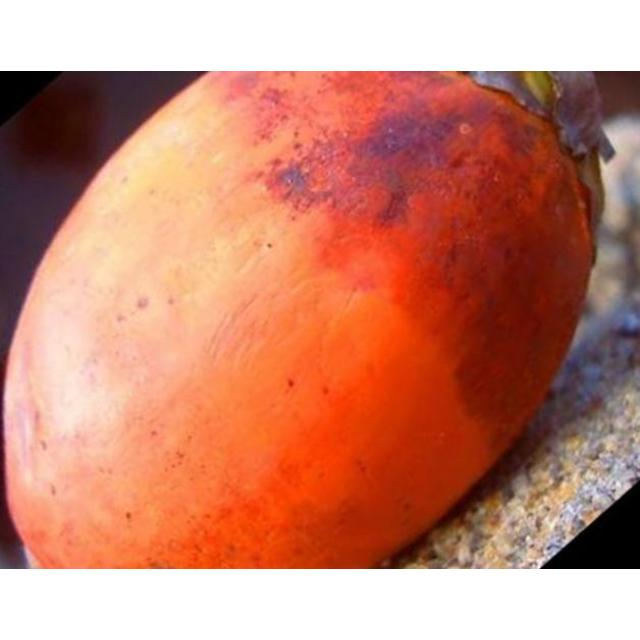good: (3, 71, 616, 568)
